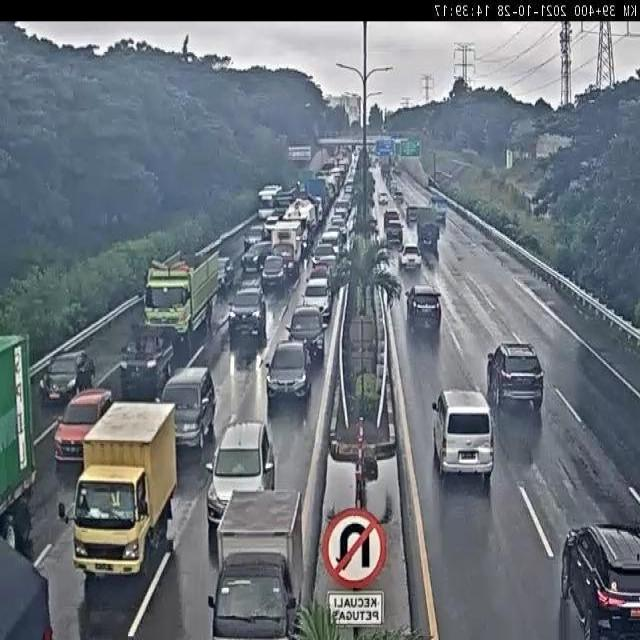Bus: (256, 182, 282, 220)
Car: (560, 523, 640, 640), (206, 413, 277, 525), (52, 388, 116, 462), (159, 366, 215, 450), (487, 342, 545, 412), (119, 325, 174, 395), (264, 339, 311, 403), (39, 350, 89, 405), (227, 284, 267, 351), (287, 304, 326, 364), (405, 284, 442, 336), (302, 277, 332, 321), (240, 241, 272, 274), (261, 253, 287, 293), (304, 262, 333, 291), (237, 273, 263, 304), (243, 224, 266, 253), (400, 242, 422, 270), (264, 213, 284, 240), (311, 243, 337, 263), (320, 229, 341, 253), (384, 218, 404, 242), (273, 192, 293, 214), (331, 218, 348, 238), (383, 209, 400, 227), (406, 206, 418, 224), (378, 192, 389, 206), (344, 180, 353, 193), (394, 189, 403, 201), (392, 167, 400, 176)
Truck: (66, 403, 178, 580), (208, 486, 307, 640), (140, 250, 219, 360), (0, 332, 39, 552), (267, 212, 310, 279), (282, 198, 318, 245), (416, 206, 440, 250), (304, 178, 328, 218), (432, 199, 447, 225), (381, 163, 390, 175)
Van: (432, 389, 494, 482)
